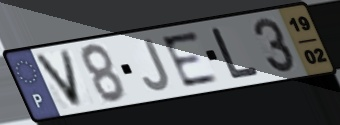3: (253, 16, 299, 74)
8: (80, 42, 129, 106)
E: (158, 28, 221, 90)
J: (140, 36, 172, 93)
L: (208, 25, 263, 81)
V: (30, 47, 86, 110)
